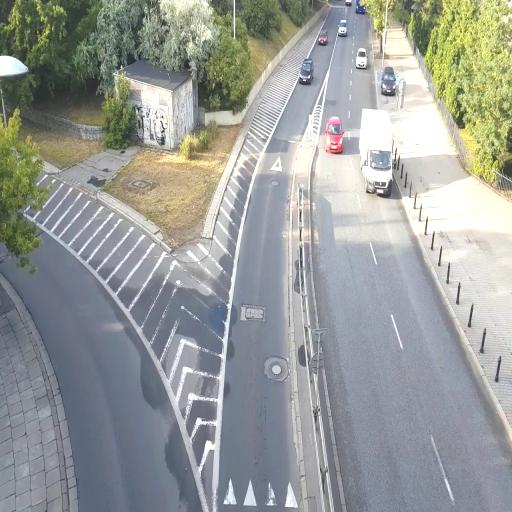vehicle: (359, 108, 394, 196), (326, 115, 344, 153), (380, 67, 398, 96), (300, 58, 314, 84), (355, 48, 368, 69), (338, 18, 349, 36)
